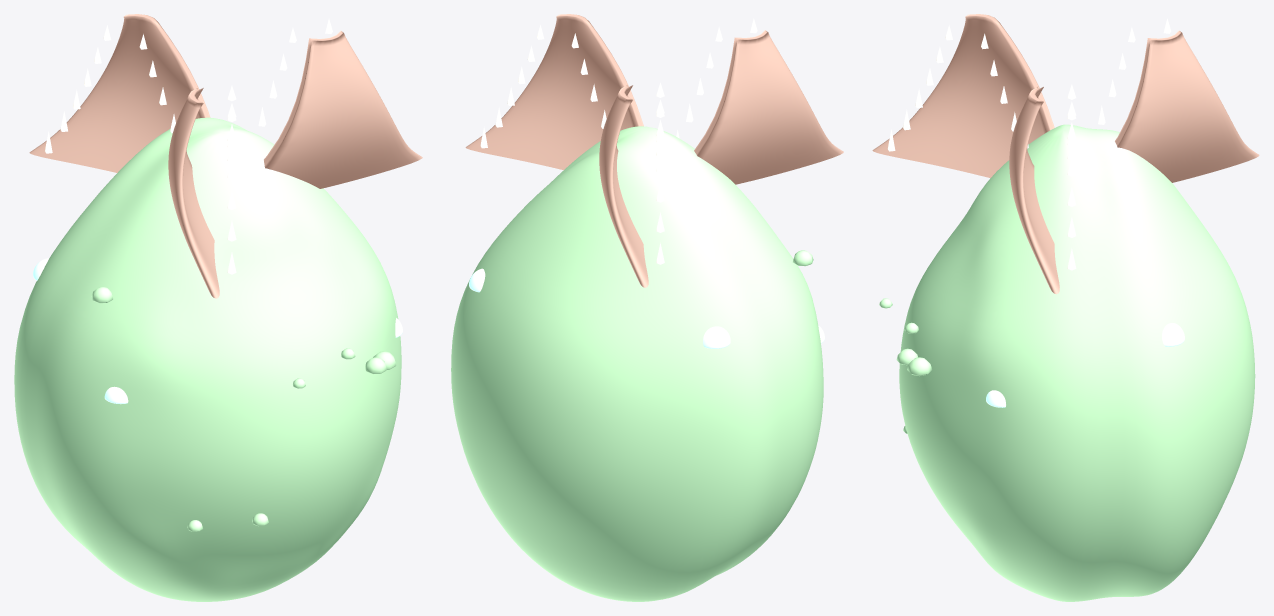
The model's file is worm_head.glb.
The picture shows the model from 3 angles, left to right: view 1: azimuth 30°, elevation 25°; view 2: azimuth 150°, elevation 25°; view 3: azimuth 270°, elevation 25°; orthographic projection. The views are drawn at different scales.
Parts seen in each view (by area): view 1: WormHead, JawPetal_0, JawPetal_1, JawPetal_2; view 2: WormHead, JawPetal_0, JawPetal_2, JawPetal_1, Eye_2; view 3: WormHead, JawPetal_2, JawPetal_1, JawPetal_0.
Boxes of the visible parts, x1,y1,x2,y2 form: WormHead: (14, 117, 401, 601); JawPetal_0: (264, 31, 422, 188); JawPetal_1: (29, 14, 210, 172); JawPetal_2: (168, 88, 219, 298); WormHead: (451, 126, 823, 601); JawPetal_0: (465, 14, 643, 170); JawPetal_2: (694, 30, 843, 184); JawPetal_1: (599, 85, 648, 287); Eye_2: (703, 326, 730, 348); WormHead: (899, 124, 1255, 601); JawPetal_2: (872, 14, 1054, 178); JawPetal_1: (1115, 30, 1259, 182); JawPetal_0: (1009, 87, 1059, 294).
Size of the model in its own units: 1.38 by 1.98 by 1.28.
